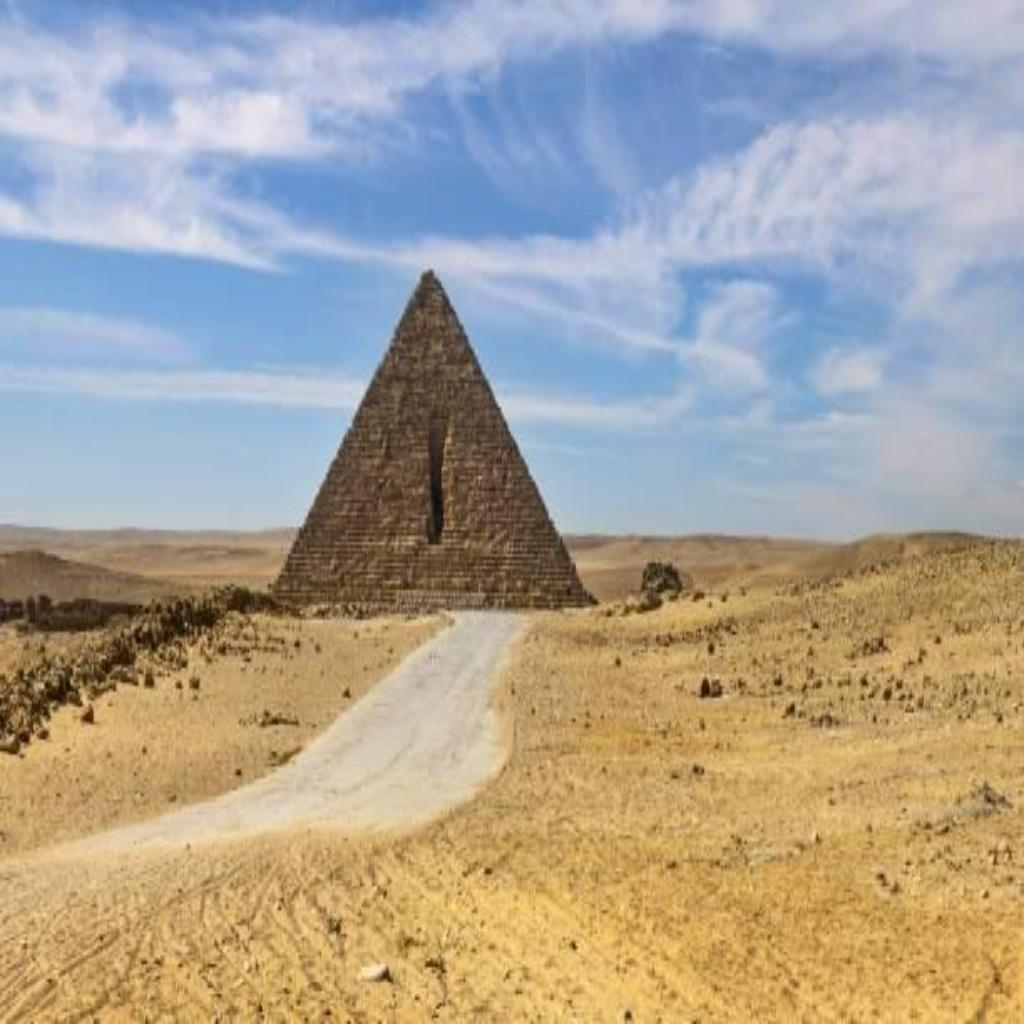Great Pyramids of Giza: (266, 260, 597, 614)
